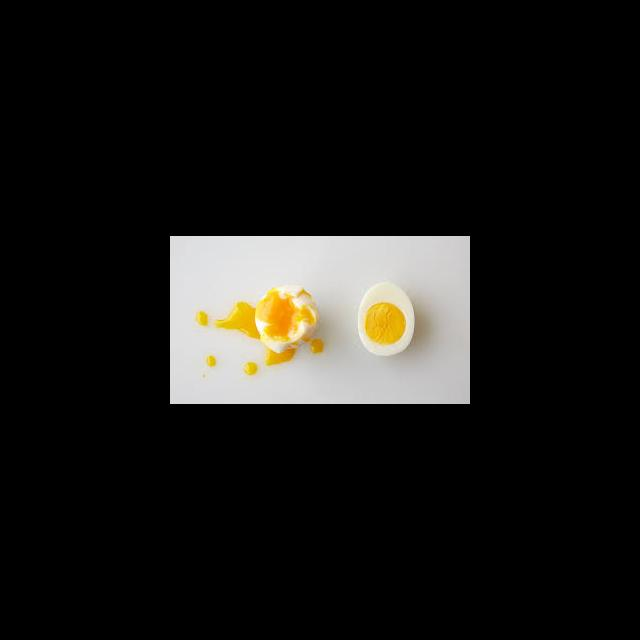food_waste: (242, 266, 427, 378)
